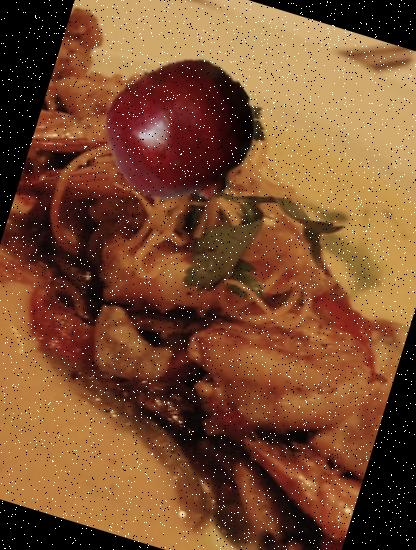Pomegranate: (91, 40, 276, 225)
